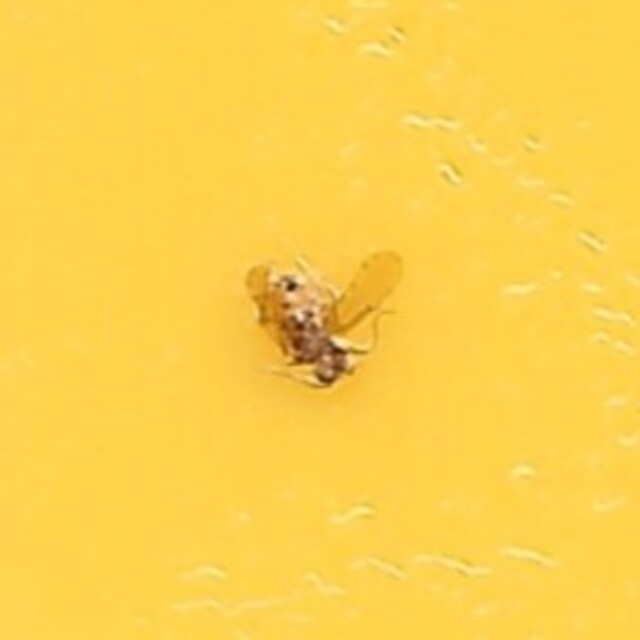Brachycera: (244, 247, 396, 393)
